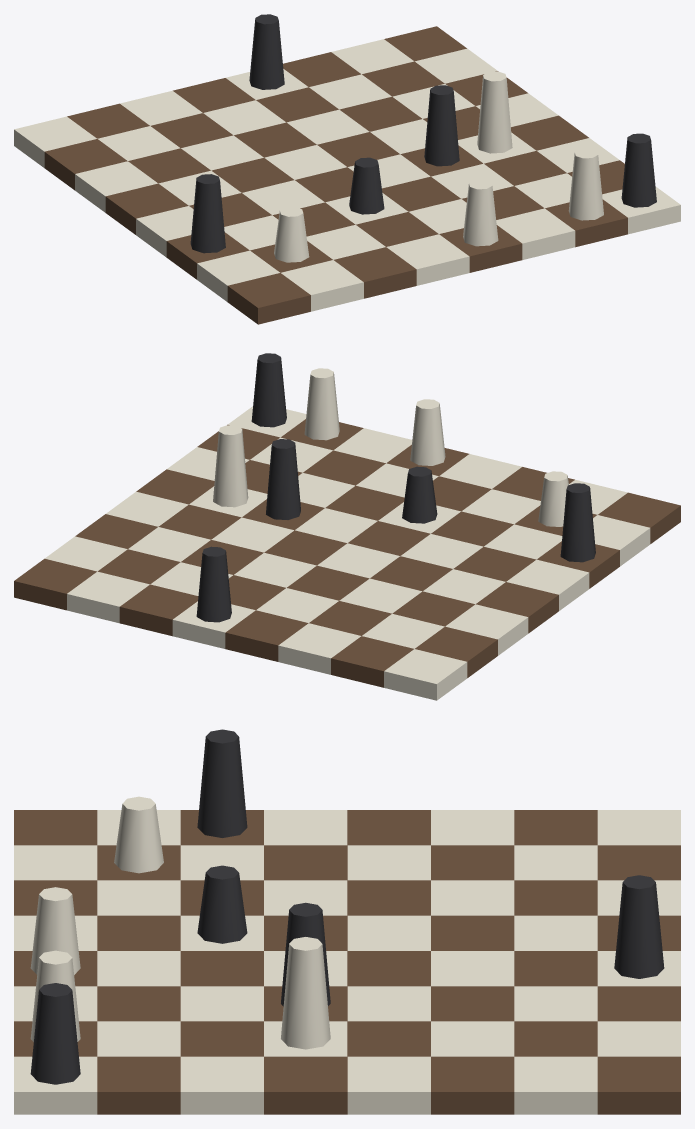
The model's file is chess.glb.
The picture shows the model from 3 angles, top to bottom: view 1: azimuth 30°, elevation 25°; view 2: azimuth 150°, elevation 25°; view 3: azimuth 270°, elevation 25°; orthographic projection. The views are drawn at different scales.
Visible parts, largest first — view 1: chess; view 2: chess; view 3: chess.
Part boxes in pixels (<box>): chess: <box>14,14,680,324</box>; chess: <box>14,353,680,700</box>; chess: <box>14,729,680,1114</box>.
Size of the model in its own units: 0.32 by 0.0624 by 0.32.
